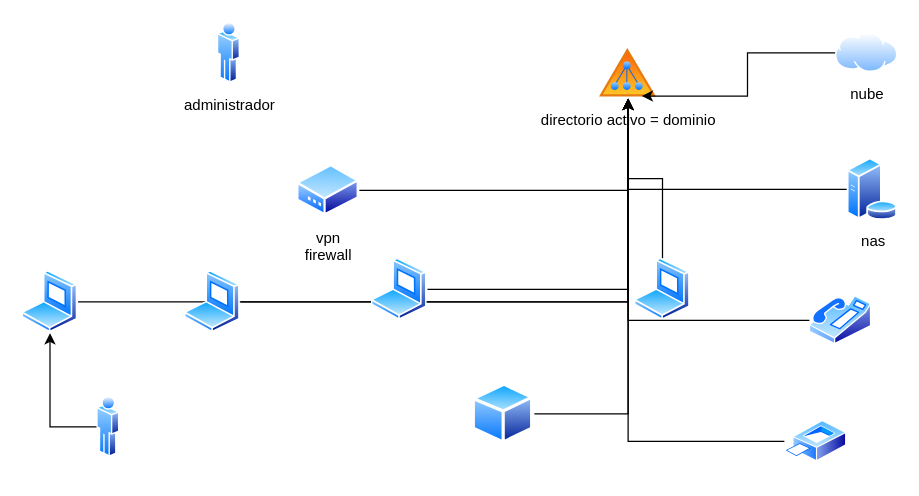
Image size: 919x496. Some labels were removed from this diagram. Here are the shapes that lost their labels. From the top down, the box of each, then its label:
(809, 295, 871, 344): pbx
(471, 382, 534, 444): erp
